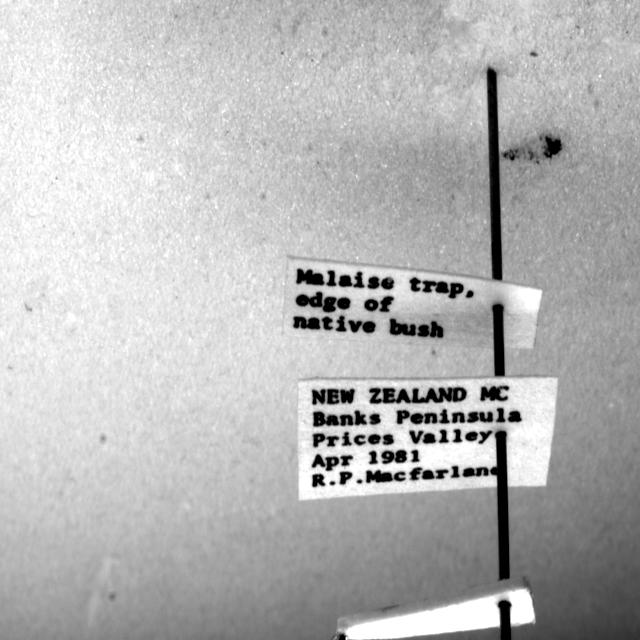typed_label: (298, 377, 558, 501), (282, 257, 542, 349)
